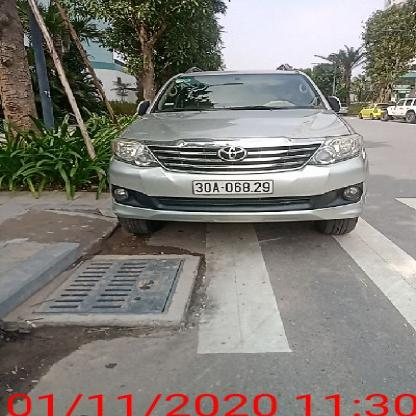biensoxe: (190, 180, 273, 196)
